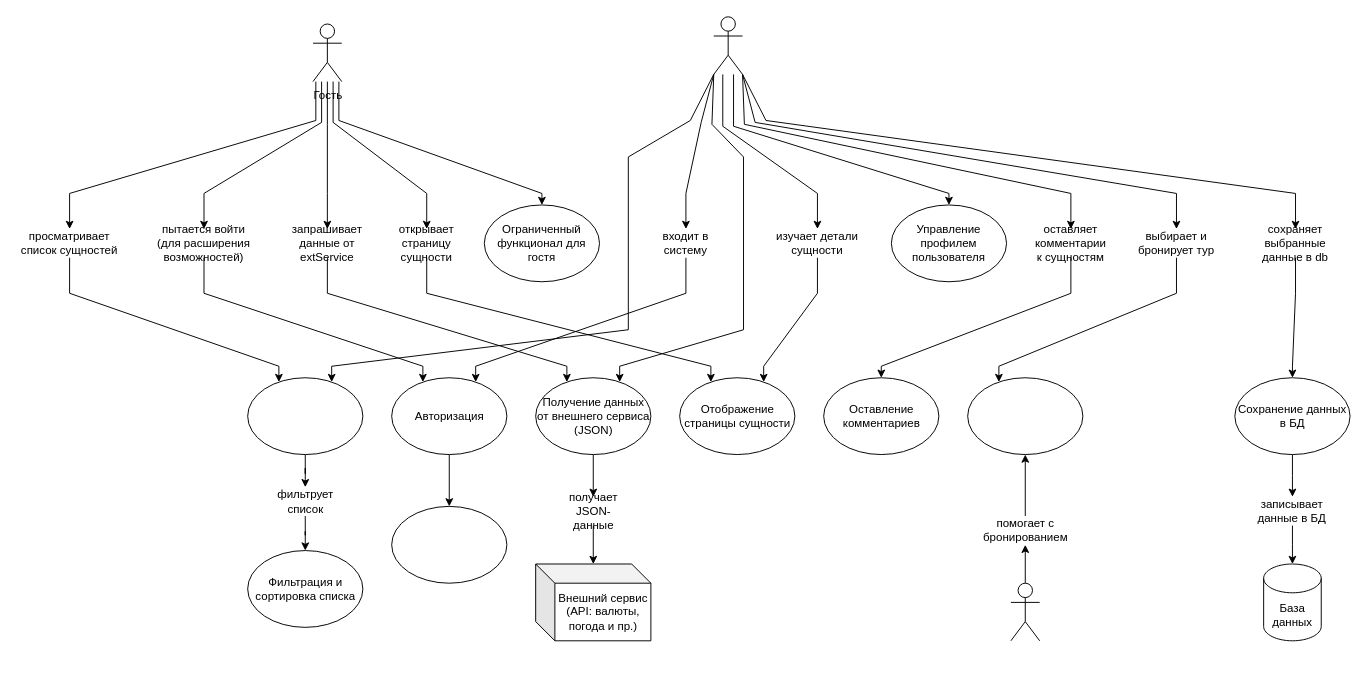
Image size: 1367x678. Some labels were removed from this diagram. Each missing label, with the centre of its shape:
"Бронирование тура" belongs at (x=1025, y=416).
"Отображение списка сущностей с изображениями" belongs at (x=305, y=416).
"Пользователь (авторизованный)" belongs at (x=728, y=45).
"Расширенный функционал для авторизованного пользователя" belongs at (x=449, y=544).
"Турагент" belongs at (x=1025, y=611).
